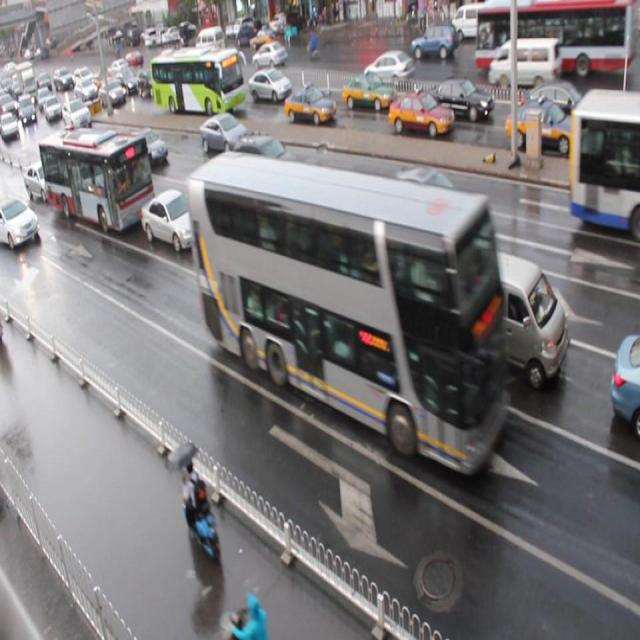car: (300, 229, 403, 321), (229, 131, 303, 198), (392, 167, 463, 230), (140, 188, 208, 252), (522, 78, 587, 136), (505, 102, 570, 154), (608, 330, 640, 432), (387, 89, 451, 140), (425, 76, 490, 123), (342, 72, 394, 115), (284, 85, 336, 127), (606, 101, 640, 159), (200, 114, 247, 155), (1, 198, 38, 250), (22, 160, 62, 204), (128, 129, 169, 167), (248, 70, 292, 102), (72, 133, 109, 170), (63, 100, 91, 130)
truck: (438, 240, 568, 389), (215, 188, 290, 284)
van: (187, 148, 513, 477), (38, 127, 154, 235), (569, 88, 640, 237), (151, 47, 245, 118)
